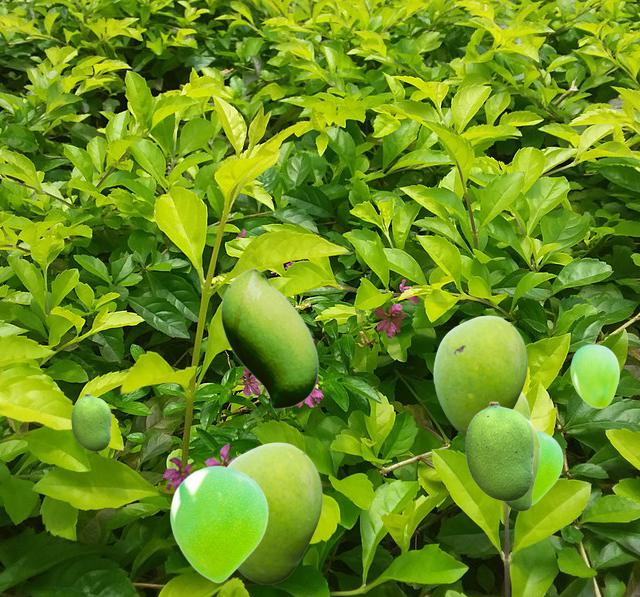green_mango: (220, 267, 317, 408), (227, 442, 321, 583), (170, 465, 267, 582), (433, 315, 526, 436), (465, 401, 533, 500), (503, 418, 539, 510), (570, 344, 618, 407), (71, 393, 110, 450), (533, 430, 562, 504), (515, 392, 529, 419)
